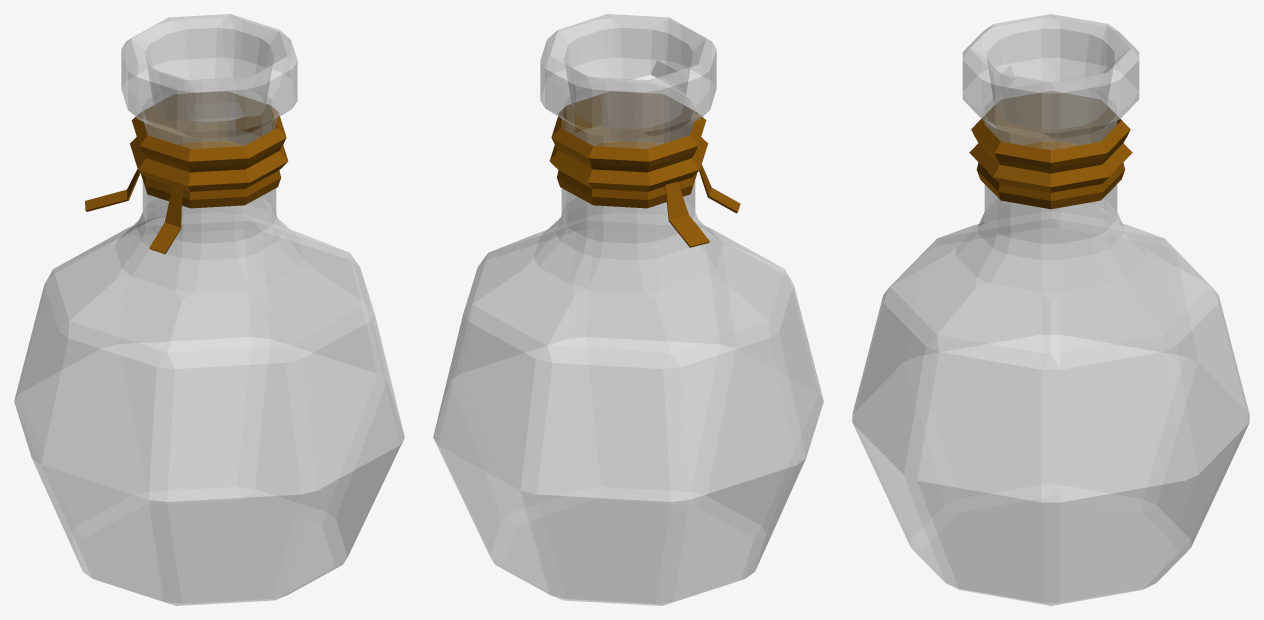
File: potion2empty (1).fbx
3 renders of one model, left to right at view 1: azimuth 30°, elevation 25°; view 2: azimuth 150°, elevation 25°; view 3: azimuth 270°, elevation 25°, orthographic.
Parts seen in each view (by area): view 1: potion; view 2: potion; view 3: potion.
Boxes of the visible parts, box(x1,y1,x2,y2) form: potion: box(14, 14, 404, 605); potion: box(433, 14, 823, 605); potion: box(852, 14, 1249, 605).
Size of the model in its own units: 234 by 327 by 234.
